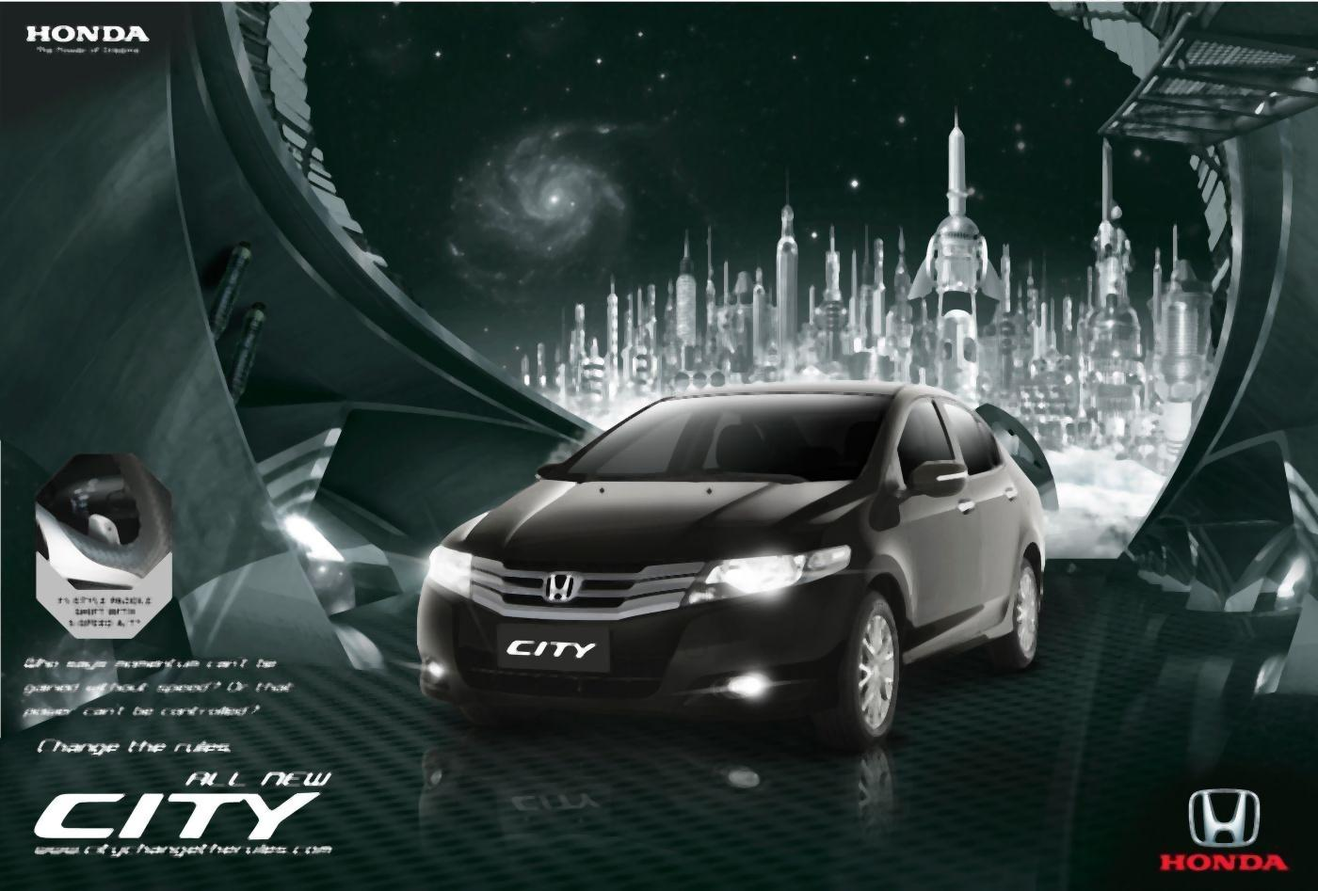Car hood: (434, 473, 876, 572)
Fender - -F-L-: (845, 466, 912, 664)
Front bumper: (400, 590, 871, 735)
Headlight - -L-: (677, 539, 858, 610)
Headlight - -R-: (421, 542, 479, 609)
Passenger-s door - -F-L-: (910, 390, 987, 639)
Passenger-s door - -R-L-: (952, 399, 1033, 635)
Side bumper - -L-: (892, 611, 1024, 671)
Side mirror - -L-: (897, 454, 970, 505)
Side mirror - -R-: (526, 459, 574, 485)
